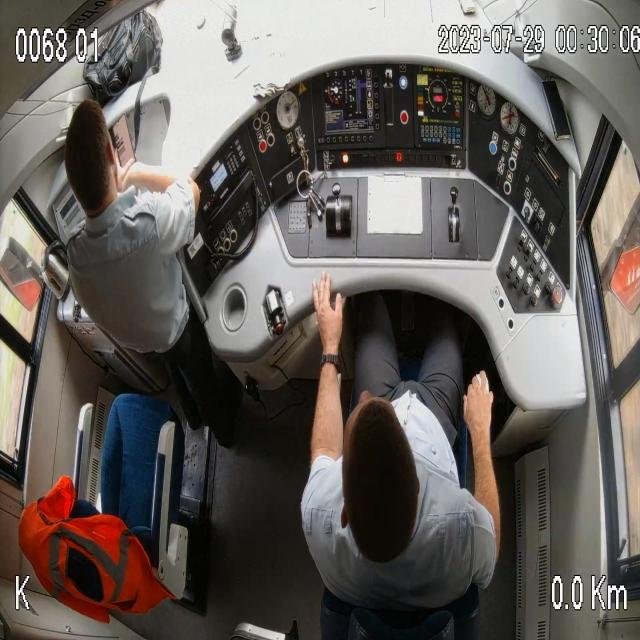smartphone: (110, 112, 138, 180)
